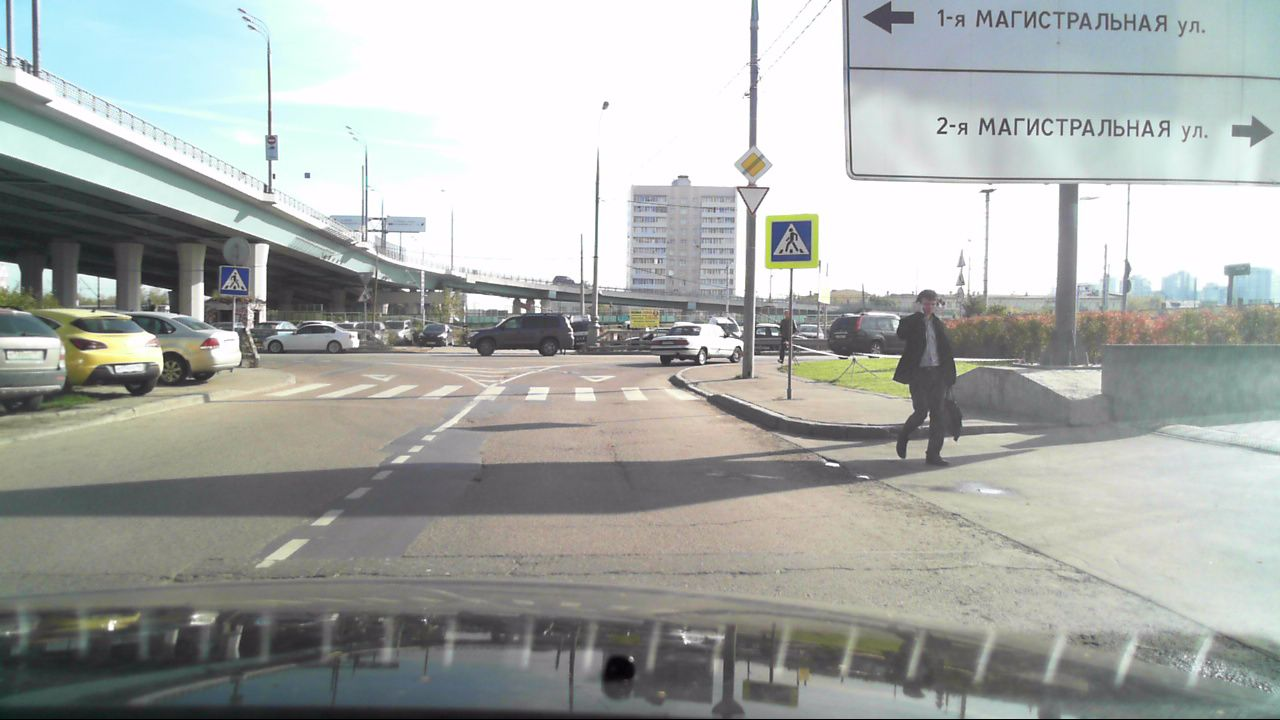main road: (733, 144, 772, 184)
